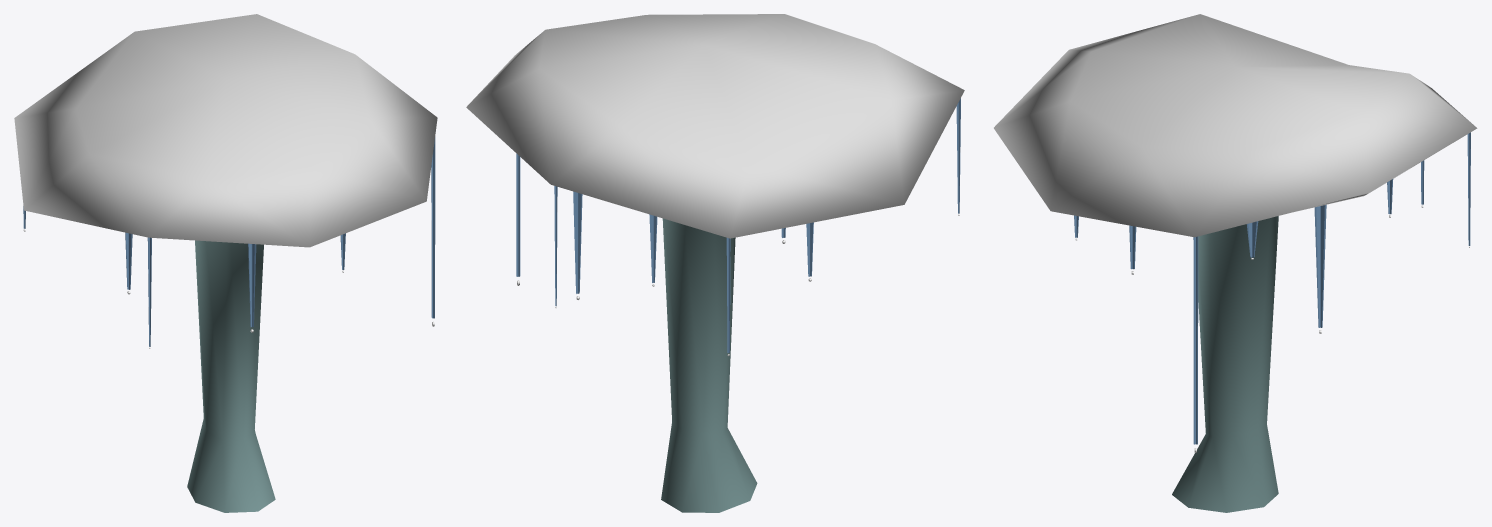
File: T Snow Tree.fbx
3 views of the same model, side by side, from view 1: azimuth 30°, elevation 25°; view 2: azimuth 150°, elevation 25°; view 3: azimuth 270°, elevation 25° (orthographic). The views are drawn at different scales.
Visible parts, largest first — view 1: Snow Tree; view 2: Snow Tree; view 3: Snow Tree.
Part boxes in pixels (x1,y1,x2,y2): Snow Tree: [14, 14, 437, 512]; Snow Tree: [466, 14, 964, 512]; Snow Tree: [994, 14, 1477, 512].
Bounding box in the file's own units: 402 × 410 × 420.
